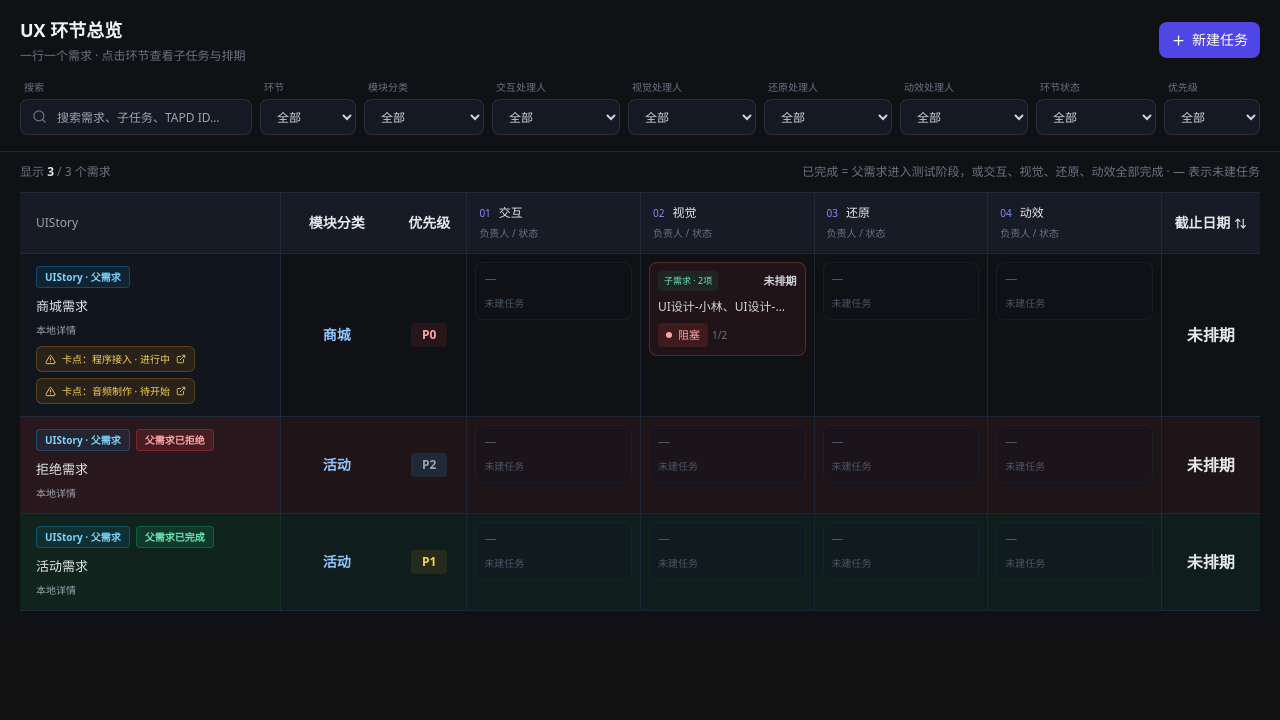
Test: UX stage table › combines owner and status on the same child
Select "小林" in the dropdown named "视觉处理人筛选". click: [692, 117]
box: [628,99,756,135]
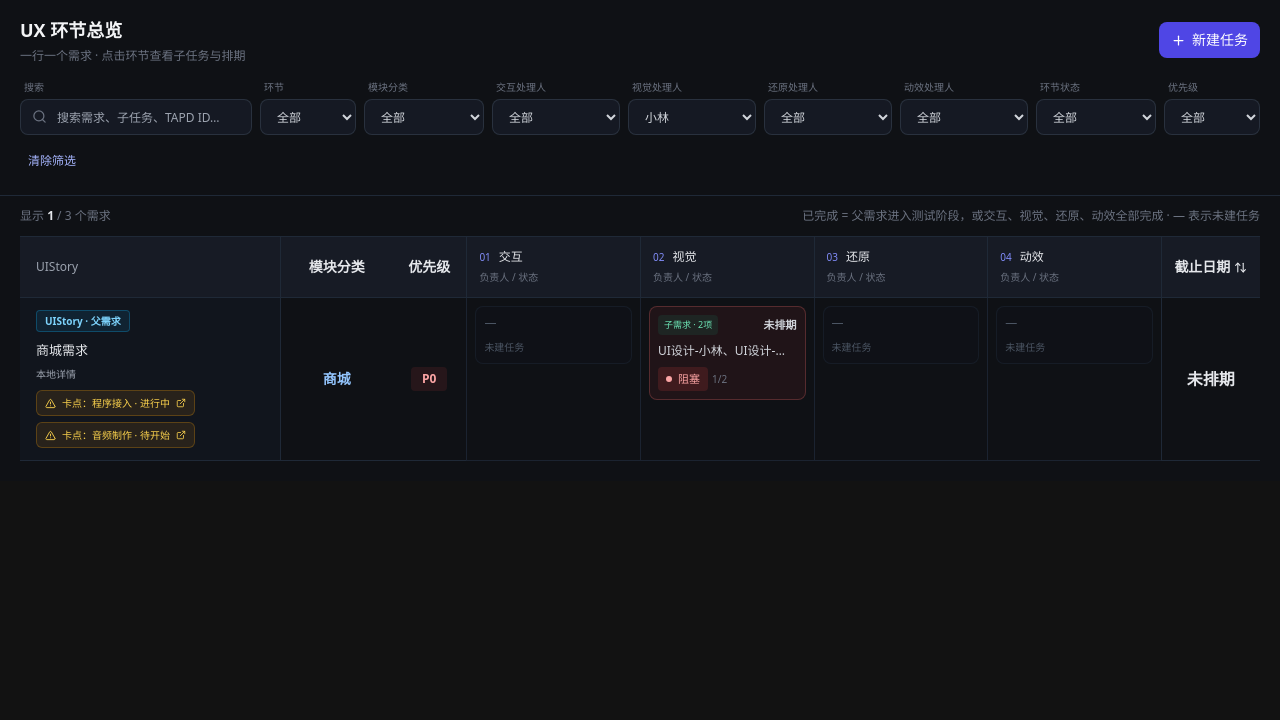
Select "阻塞" in the dropdown named "环节状态筛选". click: [1096, 117]
box: [1036,99,1156,135]
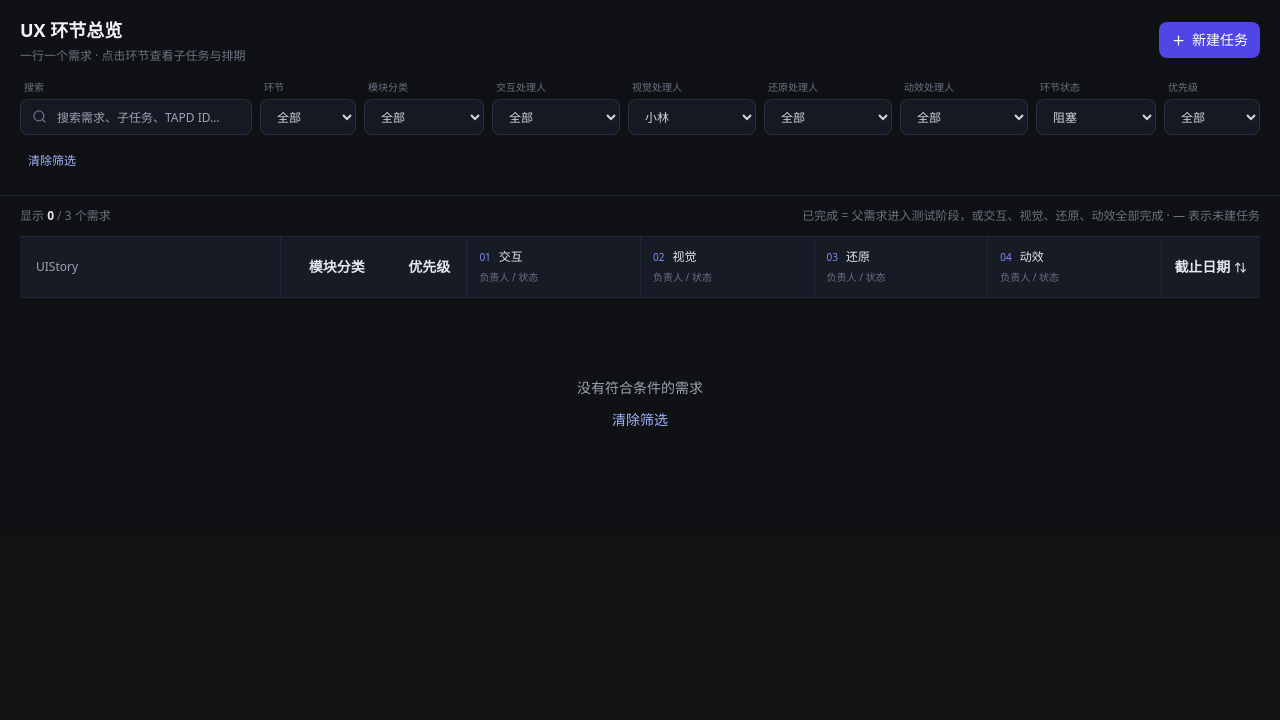
Expected: the text "没有符合条件的需求" is shown, [577,378,703,397]
Select "小陈" in the dropdown named "视觉处理人筛选". click: [692, 117]
box: [628,99,756,135]
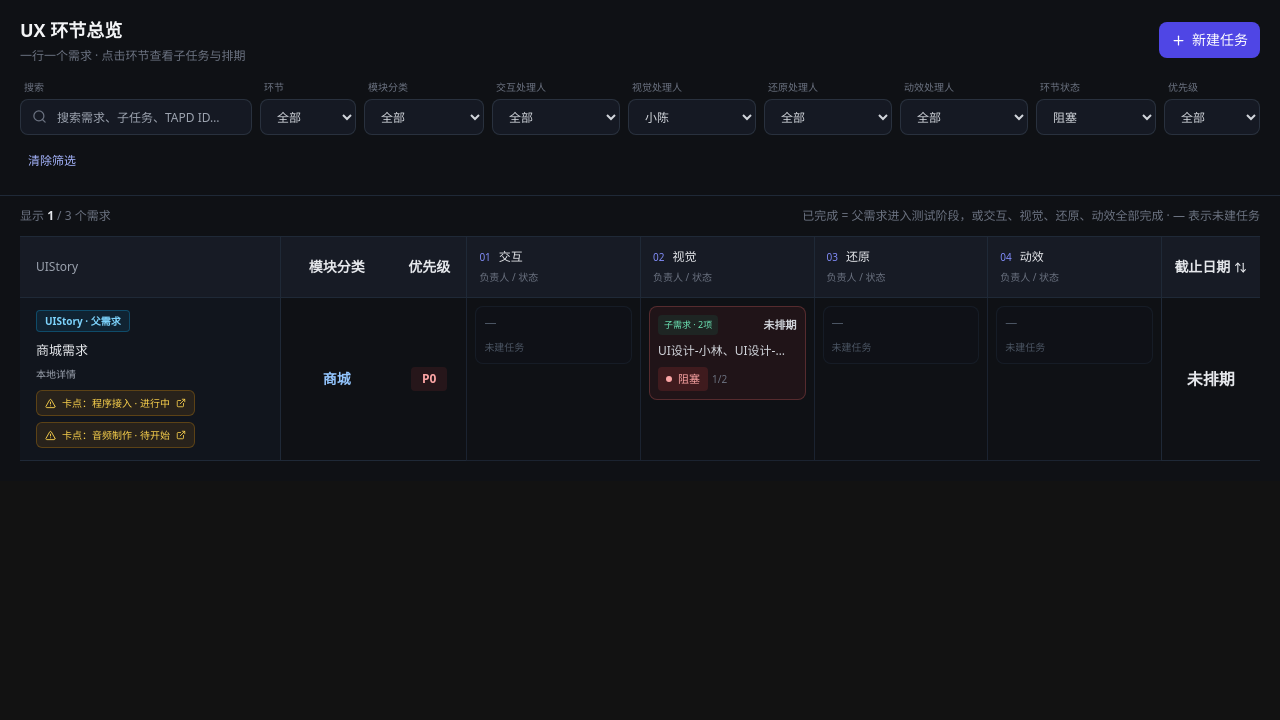
Expected: the button "商城需求" is shown, [36,340,88,360]
